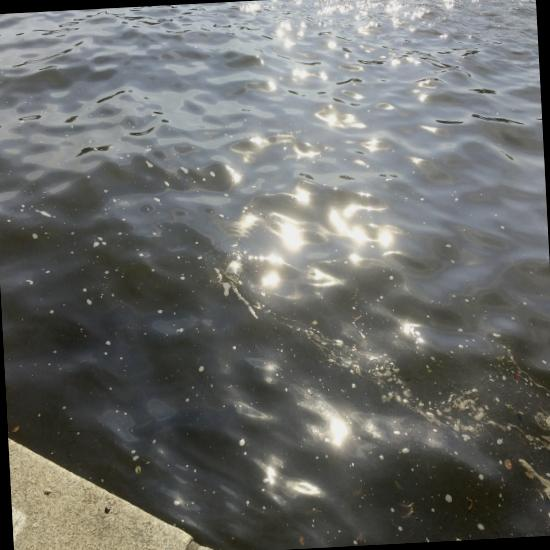Plastic film: (224, 260, 243, 284)
